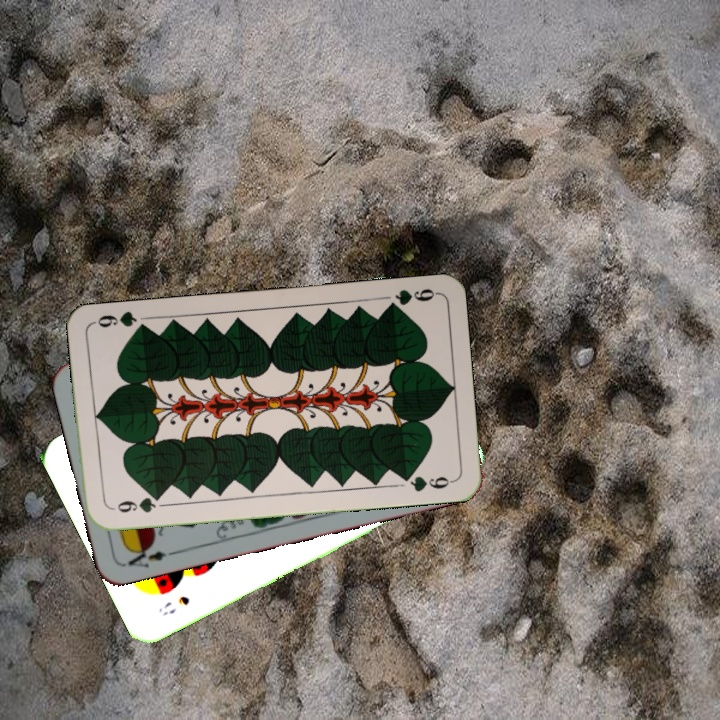EA: (121, 541, 179, 570)
G9: (381, 284, 439, 313), (113, 491, 165, 515)
S8: (154, 591, 193, 619)
